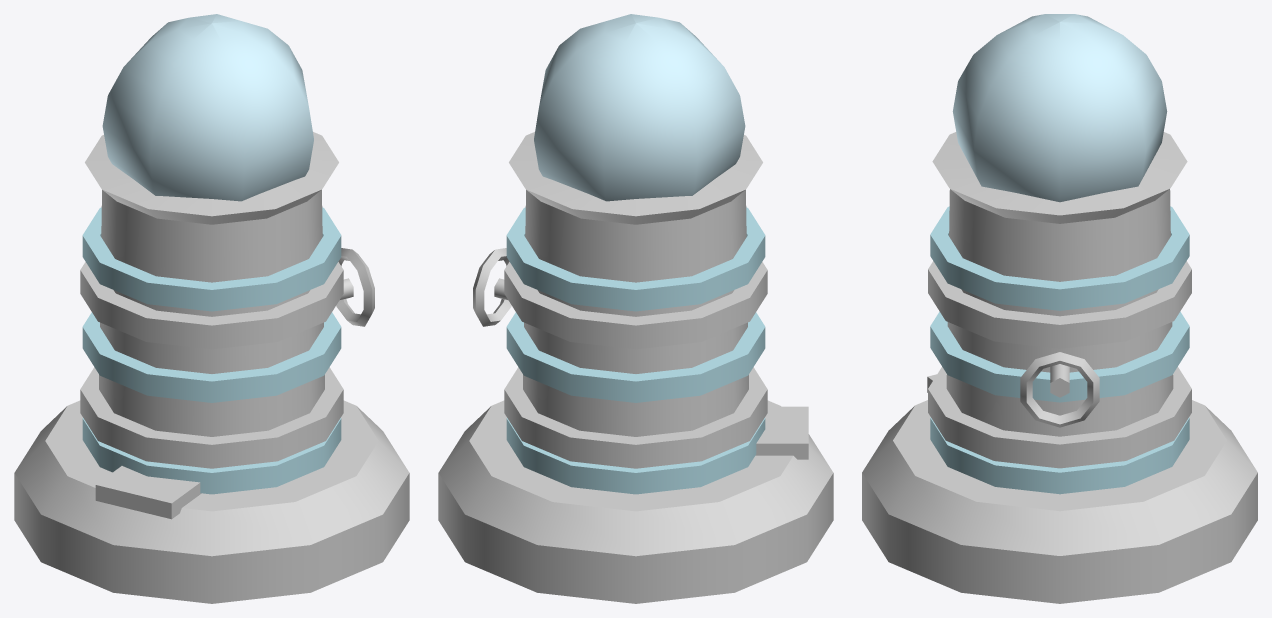
File: CoolantPipe.glb
The picture shows the model from 3 angles, left to right: view 1: azimuth 30°, elevation 25°; view 2: azimuth 150°, elevation 25°; view 3: azimuth 270°, elevation 25°; orthographic projection.
Visible parts, largest first — view 1: Body, Charge, Bands; view 2: Body, Charge, Bands; view 3: Body, Charge, Bands.
Boxes of the visible parts, x1,y1,x2,y2 form: Body: (14, 132, 409, 603); Charge: (102, 14, 313, 201); Bands: (82, 207, 341, 494); Body: (438, 132, 833, 603); Charge: (534, 14, 745, 201); Bands: (506, 207, 765, 494); Body: (862, 132, 1257, 603); Charge: (952, 14, 1167, 202); Bands: (930, 206, 1189, 494).
Size of the model in its own units: 9 by 12.5 by 9.
